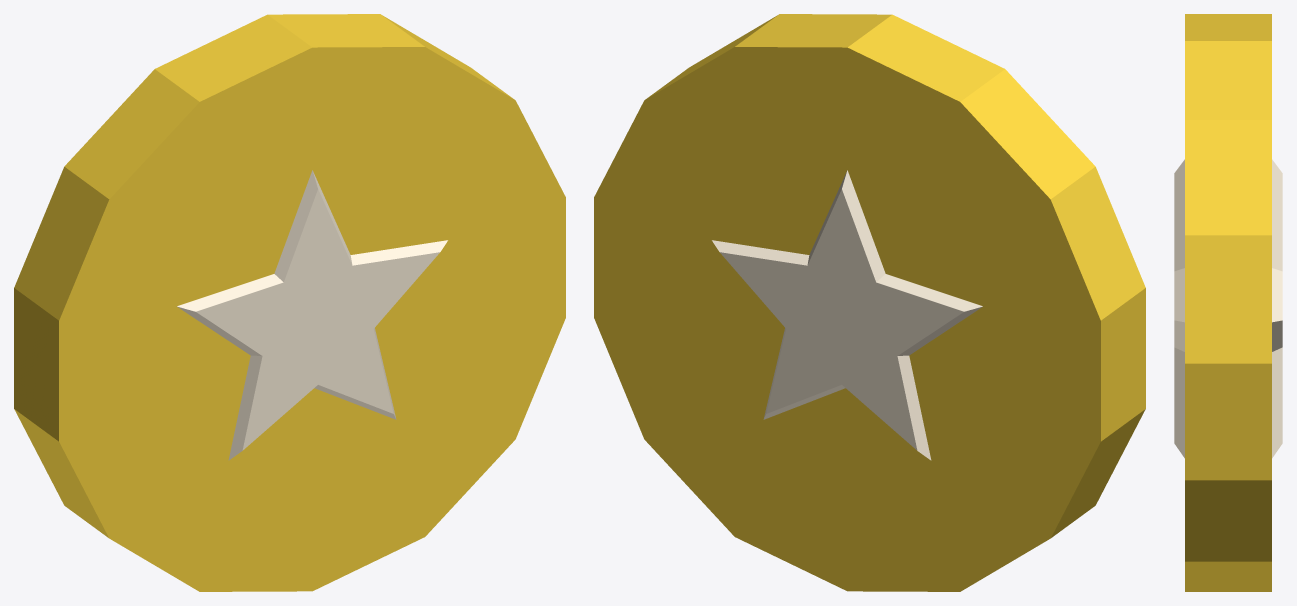
Rendered from coin.glb.
3 renders of one model, left to right at view 1: azimuth 30°, elevation 25°; view 2: azimuth 150°, elevation 25°; view 3: azimuth 270°, elevation 25°, orthographic. The views are drawn at different scales.
Visible parts, largest first — view 1: coin; view 2: coin; view 3: coin.
Boxes of the visible parts, x1=… form: coin: x1=14, y1=14, x2=565, y2=591; coin: x1=594, y1=14, x2=1145, y2=591; coin: x1=1174, y1=14, x2=1282, y2=591.
Bounding box in the file's own units: 0.7799 × 0.8 × 0.15.
